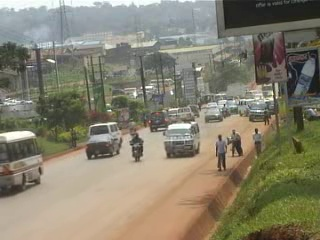Car: (82, 133, 121, 160), (148, 109, 171, 132), (203, 106, 223, 123), (223, 99, 240, 117), (204, 99, 220, 111), (189, 102, 201, 116), (168, 106, 178, 122)
Motorcycle: (128, 133, 145, 163), (128, 120, 138, 138), (221, 103, 229, 120)
